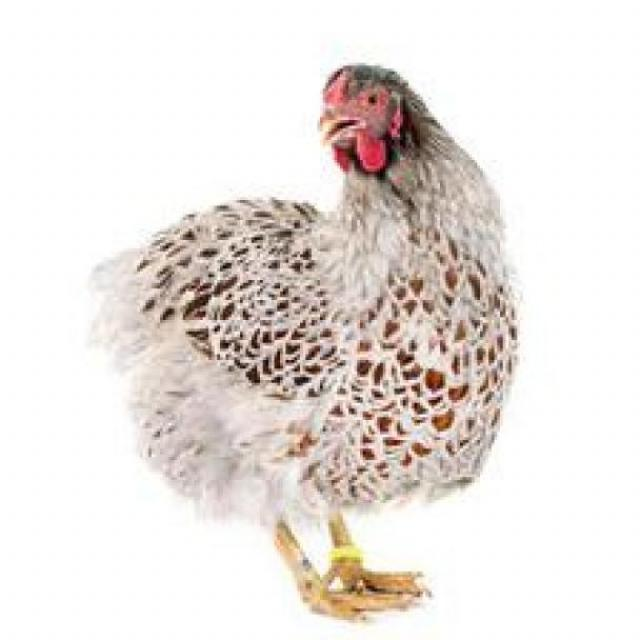Chicken: (96, 53, 563, 621)
